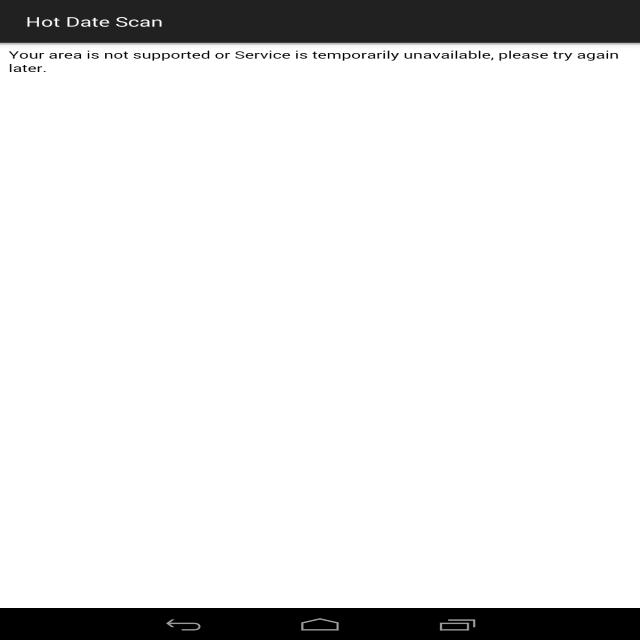TextView: (1, 49, 624, 66), (22, 14, 171, 34)
